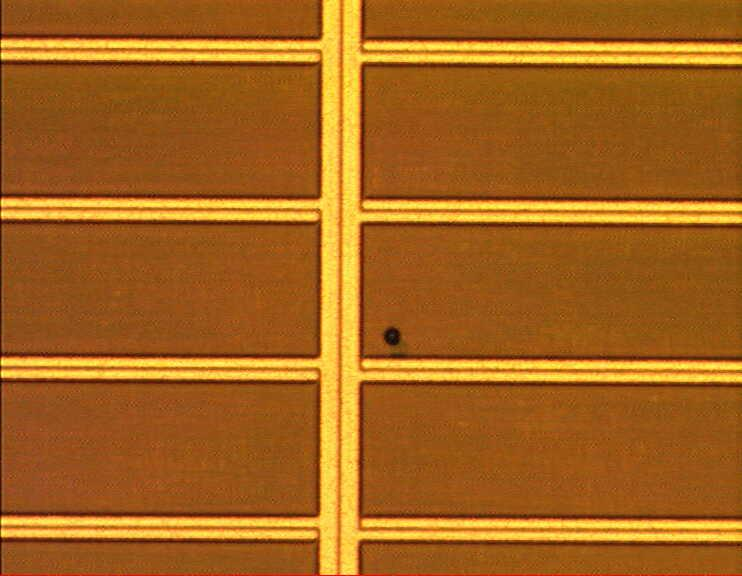PIQ PARTICLE: (379, 323, 407, 351)
